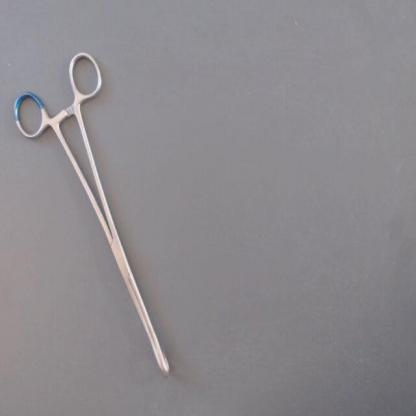Sponge Forceps: (7, 44, 184, 388)
